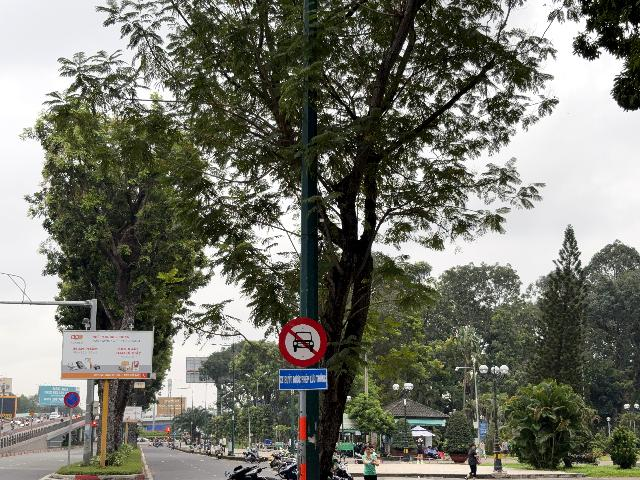cam-o-to: (278, 317, 328, 367)
